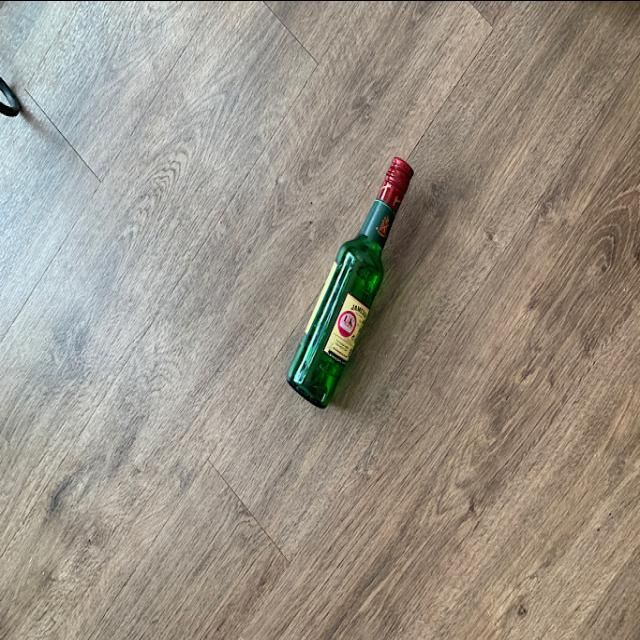Glass Bottle: (284, 148, 416, 412)
